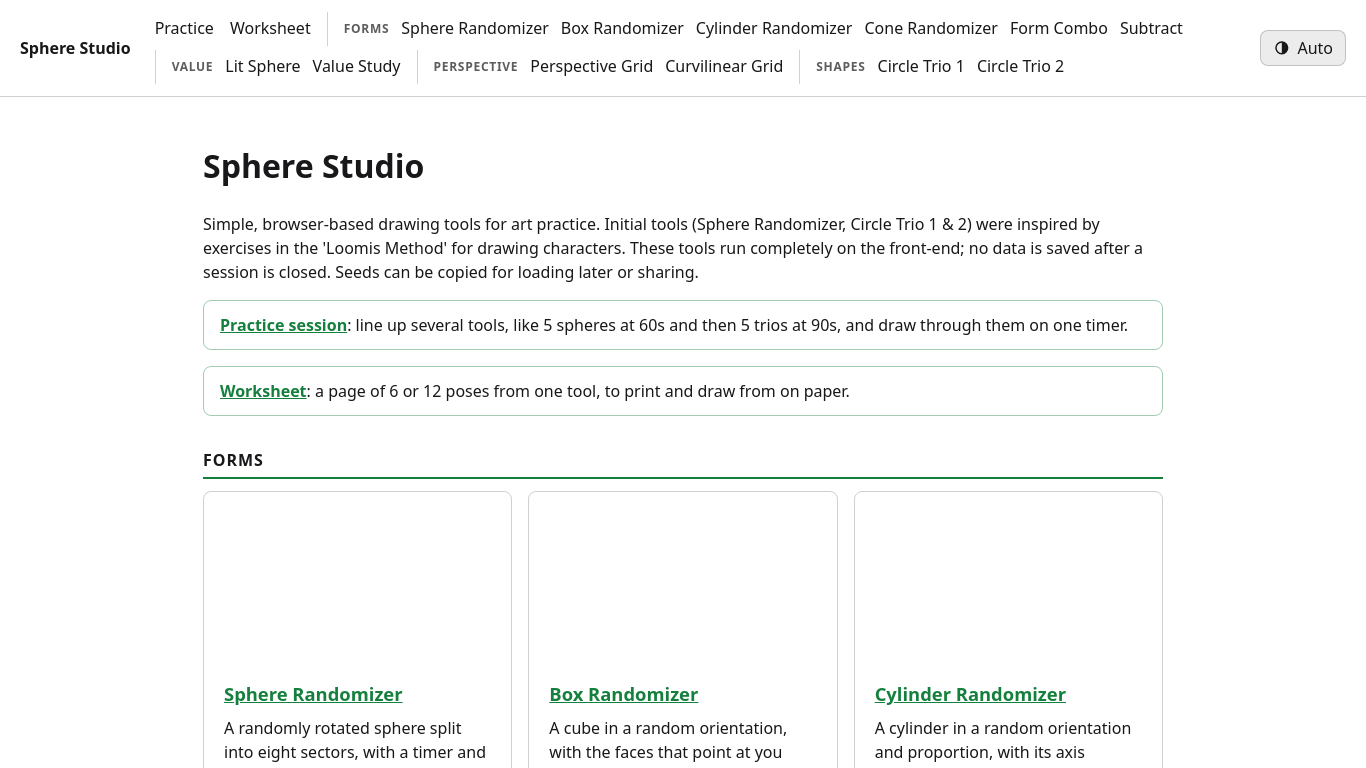
Scenario: finding it › has a Practice link in the header and on the home page
What coordinates should you click on to do the following:
click the link to "/practice"
I would click on:
 (184, 29)
Its box is [155,12,214,46].
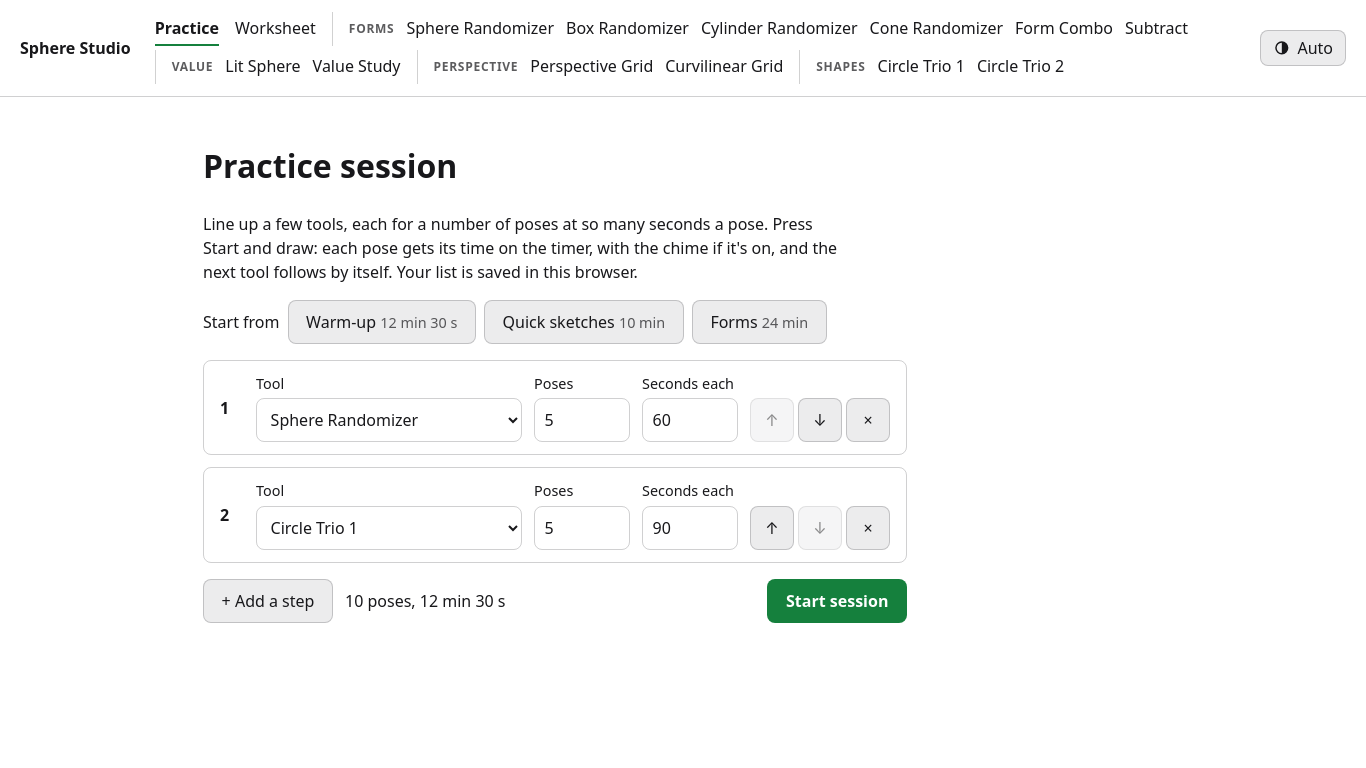
Check: the heading "Practice session" is shown, box [203,144,457,187]
